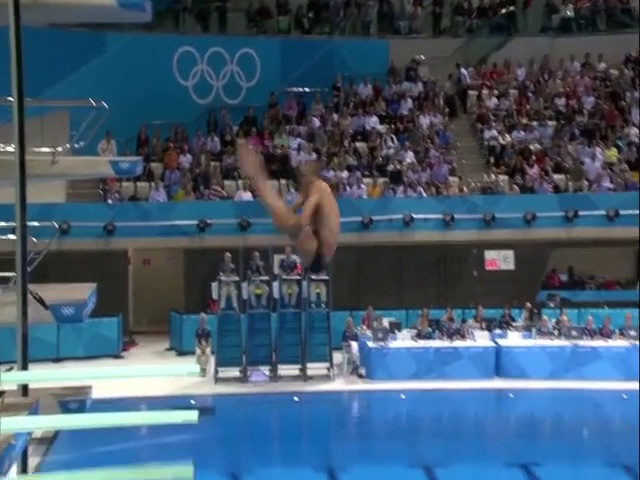diver: (237, 140, 342, 275)
